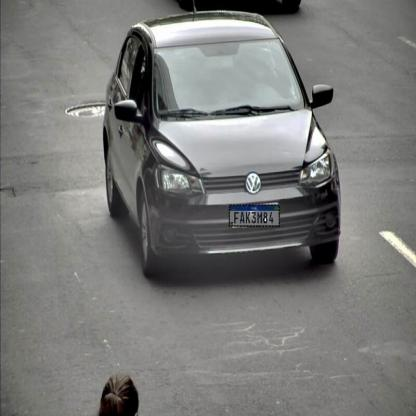PlacaM: (229, 204, 280, 226)
